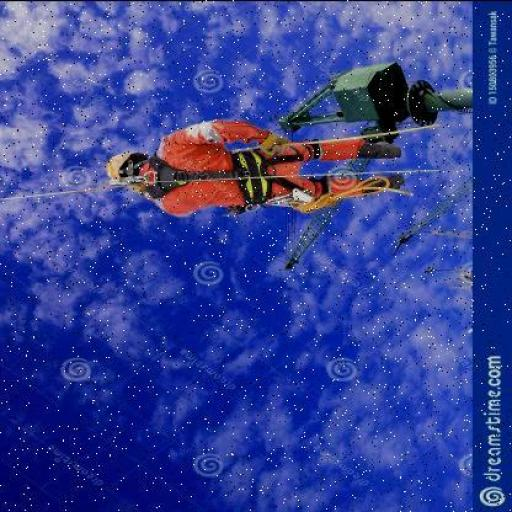person: (101, 122, 411, 216)
safety_shoe: (351, 170, 405, 194), (354, 139, 403, 160)
